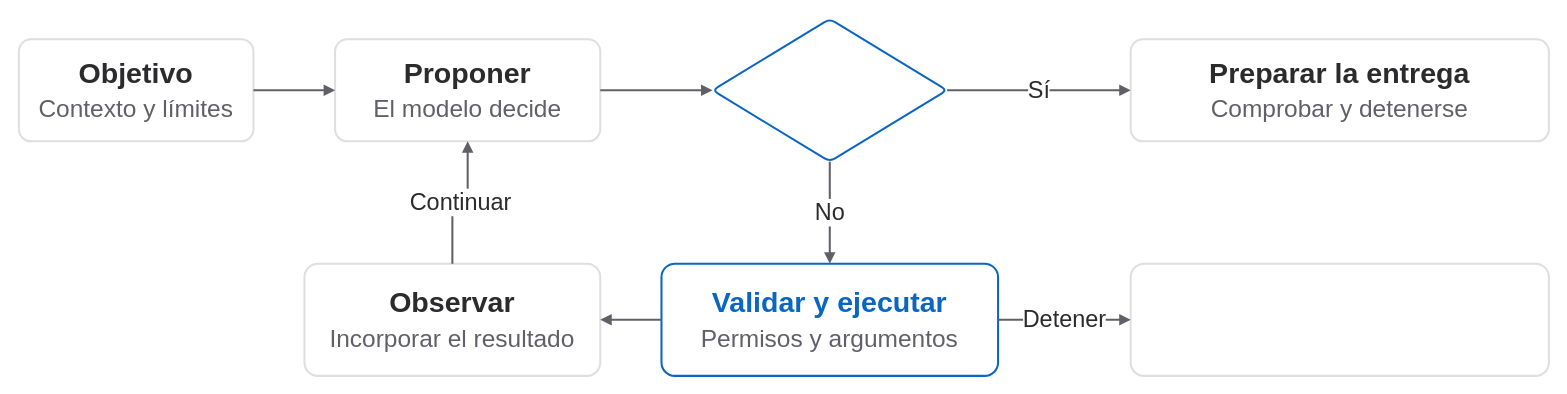
The diagram is 1567 pixels wide and 394 high, and some of its shapes have lost their labels. Here are the shapes that lost their labels. From the top down, the centre of each, then its label:
(829,89): ¿Tarea completa?
(1339,319): Si falla o llega al límite Guardar avance y pedir ayuda
